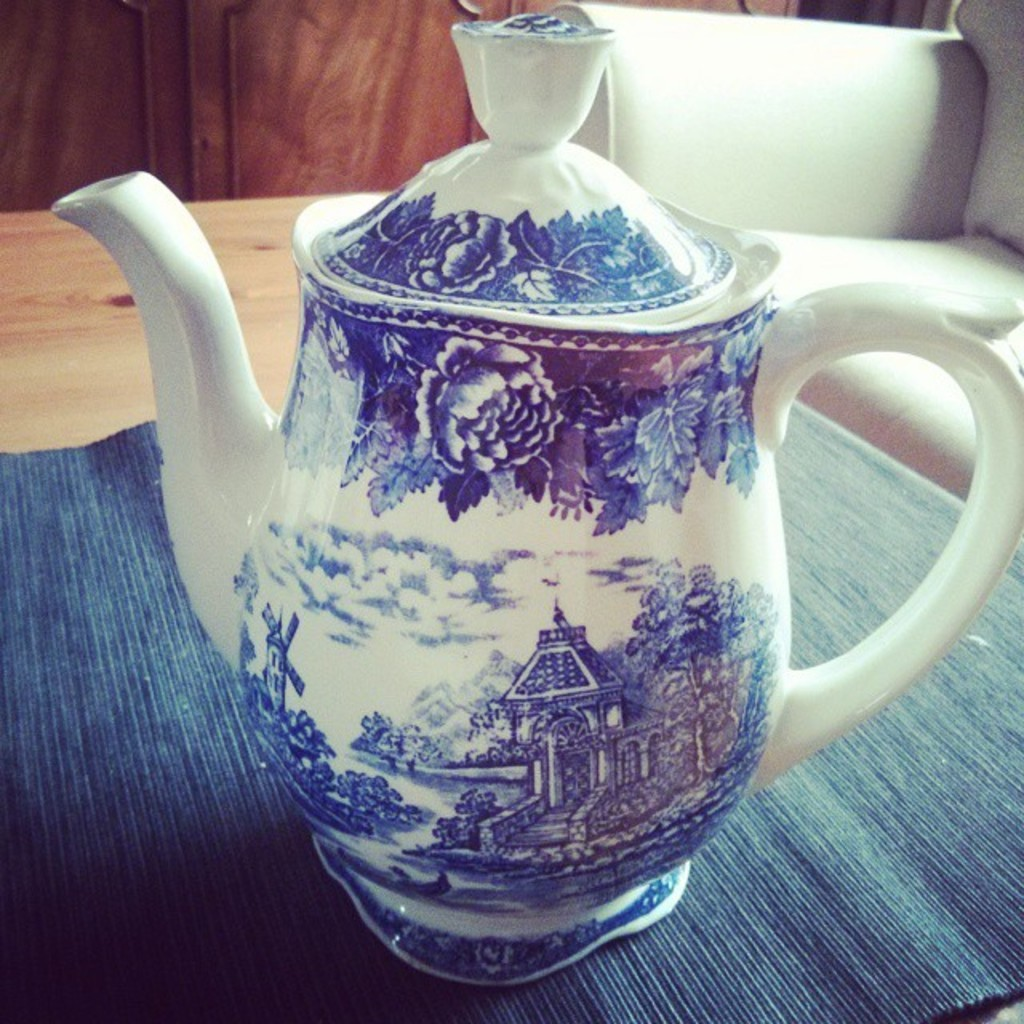teapot: (47, 12, 1022, 987)
